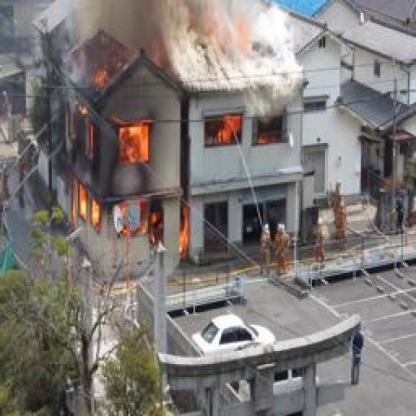fire: (118, 123, 154, 166), (205, 114, 242, 146), (176, 204, 192, 260), (90, 68, 108, 97), (76, 180, 88, 222), (90, 197, 102, 233)
